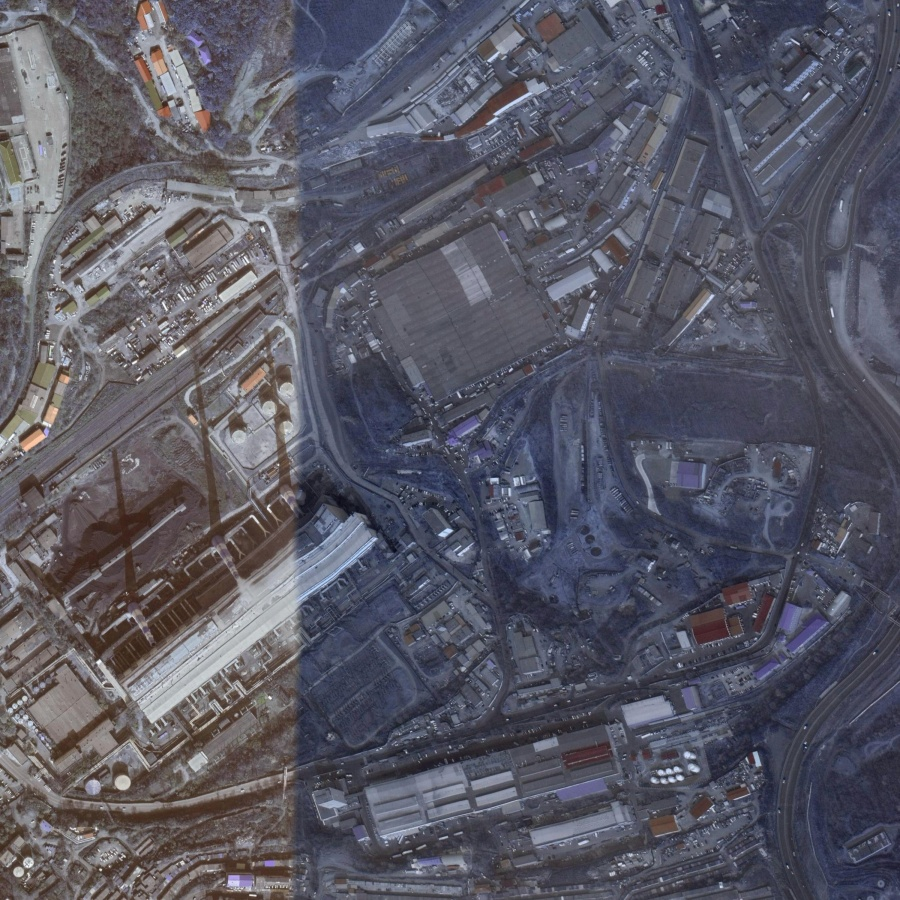PowerPlant: (46, 358, 374, 726)
